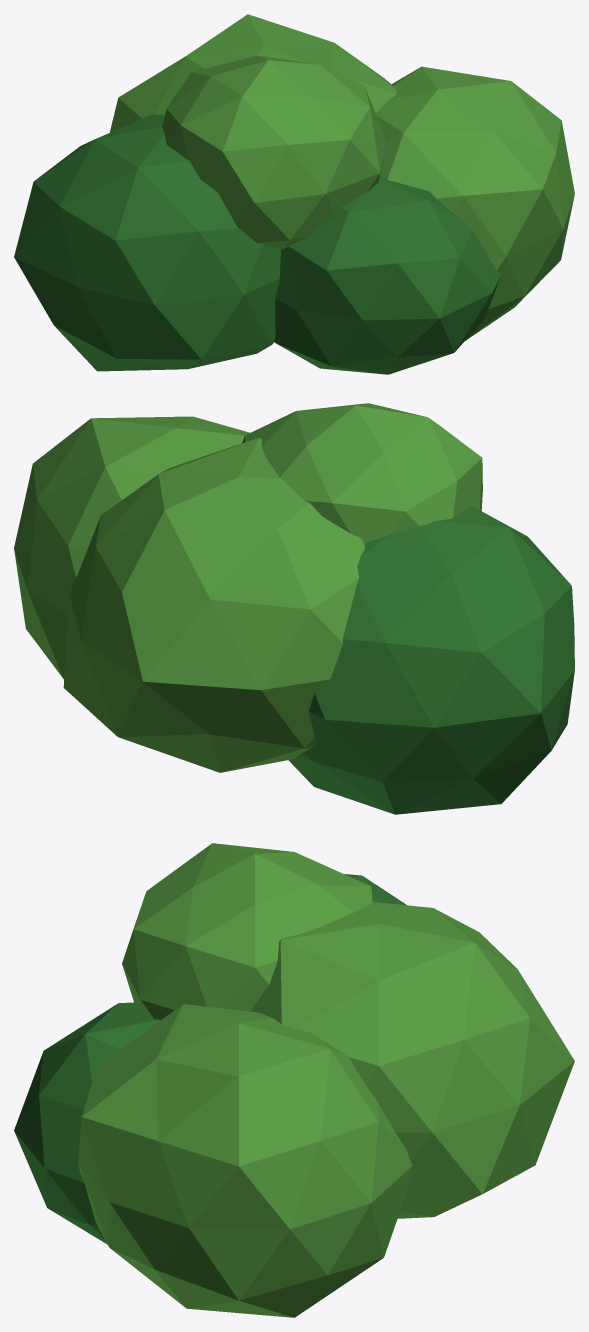
The model's file is bush.glb.
3 renders of one model, top to bottom at view 1: azimuth 30°, elevation 25°; view 2: azimuth 150°, elevation 25°; view 3: azimuth 270°, elevation 25°, orthographic. The views are drawn at different scales.
Parts seen in each view (by area): view 1: bush; view 2: bush; view 3: bush.
Boxes of the visible parts, x1,y1,x2,y2 form: bush: (14,14,574,374); bush: (14,403,574,814); bush: (14,843,574,1317).
Bounding box in the file's own units: 1.2 × 0.7 × 1.
